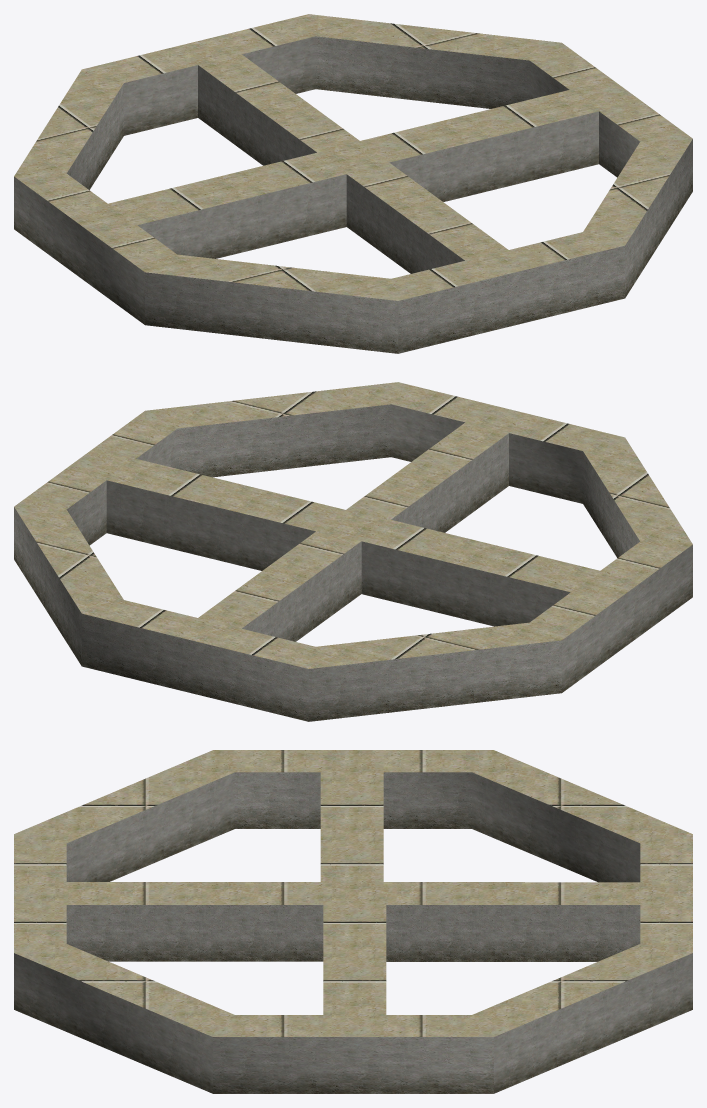
The model's file is WP_TOP_X.fbx.
The picture shows the model from 3 angles, top to bottom: view 1: azimuth 30°, elevation 25°; view 2: azimuth 150°, elevation 25°; view 3: azimuth 270°, elevation 25°; orthographic projection. The views are drawn at different scales.
Visible parts, largest first — view 1: WP_TOP_X; view 2: WP_TOP_X; view 3: WP_TOP_X.
Boxes of the visible parts, x1=… form: WP_TOP_X: x1=14, y1=14, x2=692, y2=353; WP_TOP_X: x1=14, y1=382, x2=692, y2=721; WP_TOP_X: x1=14, y1=750, x2=692, y2=1093.
Bounding box in the file's own units: 10848 × 1000 × 10847.
Materials: 2 (2 with a texture image).
